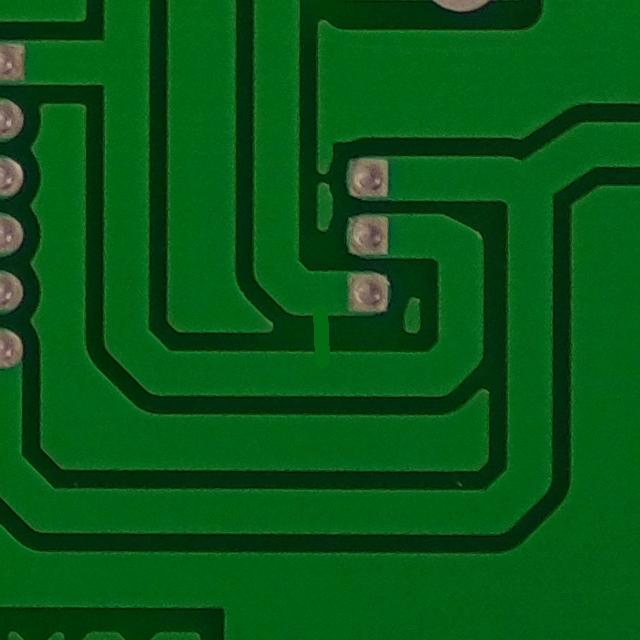short: (262, 257, 379, 384)
